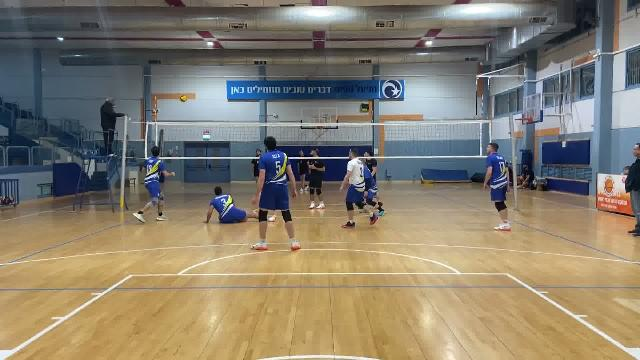ball: (179, 93, 189, 104)
